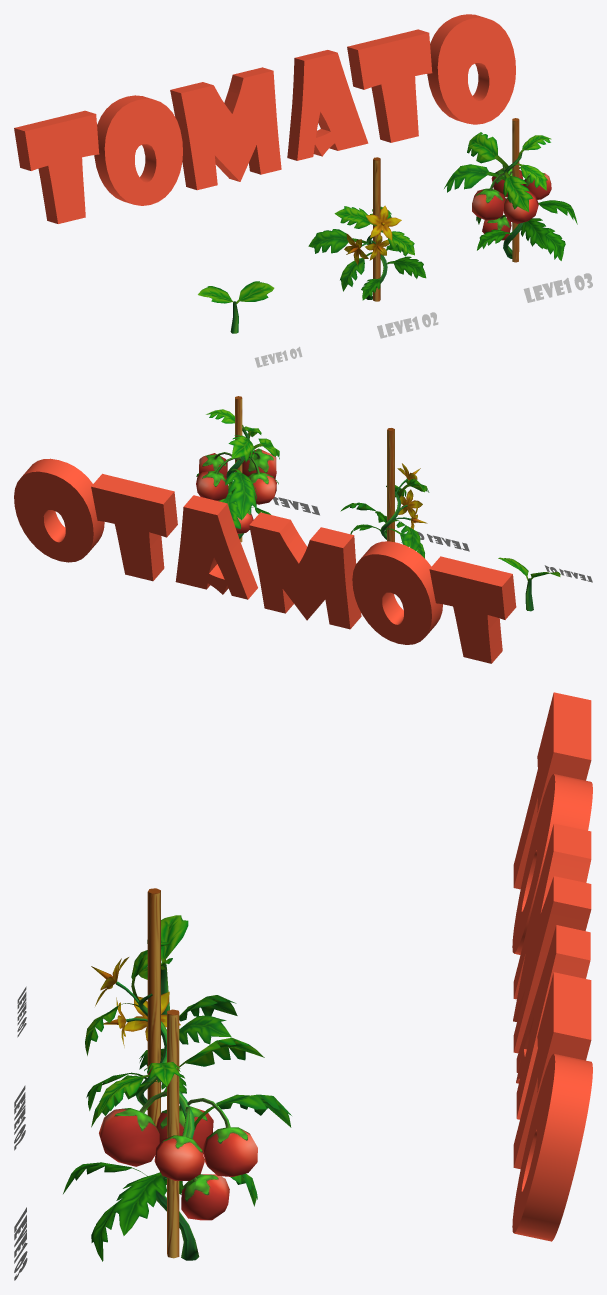
File: tomato-pack.glb
The picture shows the model from 3 angles, top to bottom: view 1: azimuth 30°, elevation 25°; view 2: azimuth 150°, elevation 25°; view 3: azimuth 270°, elevation 25°; orthographic projection. The views are drawn at different scales.
Visible parts, largest first — view 1: Tex_Tomato, SM_Tomato_Lv3, SM_Tomato_Lv2, SM_Tomato_Lv1, Tex_Level03, Tex_Level02; view 2: Tex_Tomato, SM_Tomato_Lv3, SM_Tomato_Lv2, SM_Tomato_Lv1; view 3: Tex_Tomato, SM_Tomato_Lv3, SM_Tomato_Lv2, SM_Tomato_Lv1.
Boxes of the visible parts, box(x1,y1,x2,y2) form: Tex_Tomato: box(14, 14, 515, 223); SM_Tomato_Lv3: box(444, 118, 577, 262); SM_Tomato_Lv2: box(308, 157, 426, 301); SM_Tomato_Lv1: box(198, 281, 274, 333); Tex_Level03: box(523, 273, 592, 302); Tex_Level02: box(377, 312, 438, 338); Tex_Tomato: box(14, 458, 516, 663); SM_Tomato_Lv3: box(196, 396, 279, 542); SM_Tomato_Lv2: box(340, 428, 429, 558); SM_Tomato_Lv1: box(498, 557, 560, 611); Tex_Tomato: box(512, 692, 592, 1241); SM_Tomato_Lv3: box(63, 1009, 291, 1261); SM_Tomato_Lv2: box(85, 888, 237, 1125); SM_Tomato_Lv1: box(138, 915, 188, 1014).
Bounding box in the file's own units: 1.71 × 0.4881 × 1.02.
3 materials, 1 textured.
